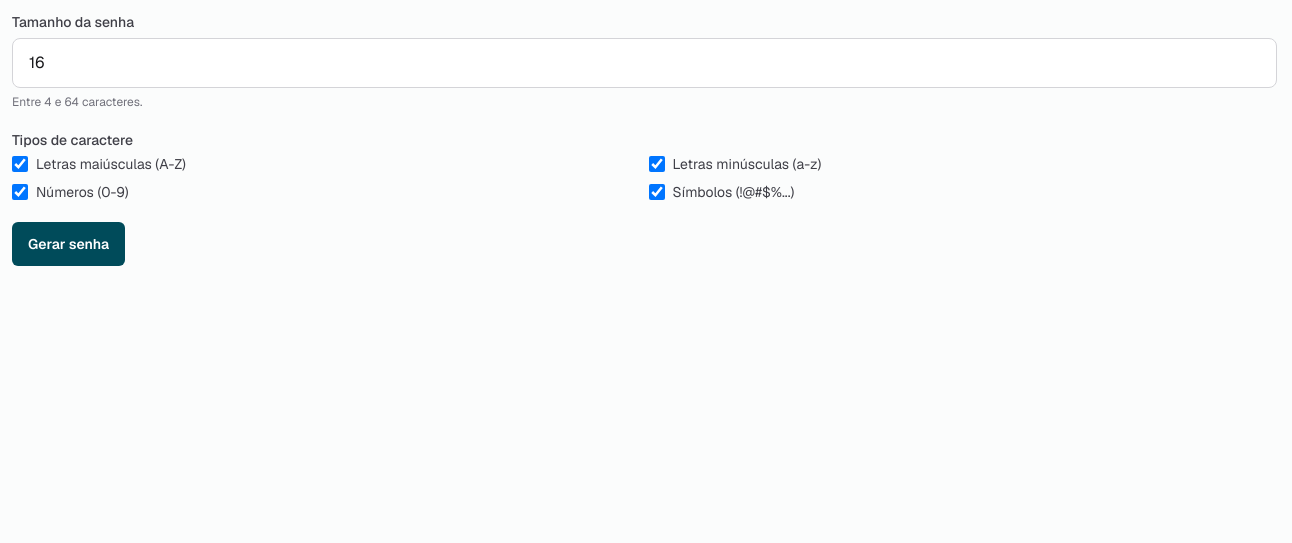
Test: PasswordGeneratorTool › mostra a força estimada da senha
The width and height of the screenshot is (1292, 543).
What coordinates should you click on to do the following:
click the button "Gerar senha"
I would click on:
 (69, 244)
Its box is top-left (12, 222), bottom-right (125, 266).
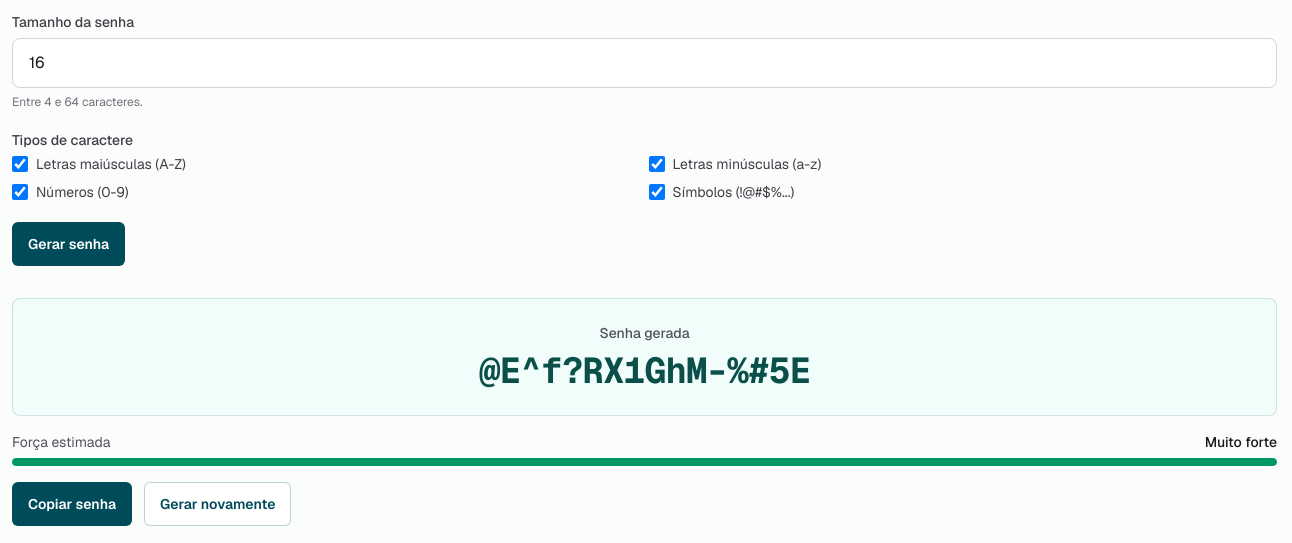
Now the text "Força estimada" is shown, box top-left (12, 432), bottom-right (110, 452)
